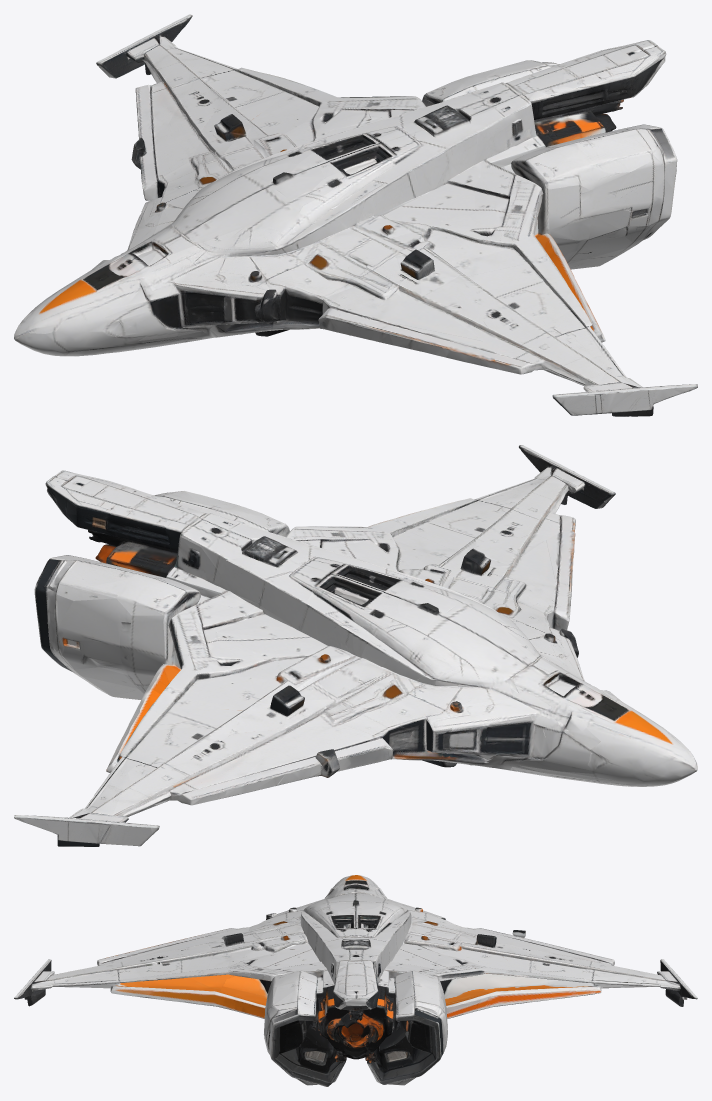
The model's file is phase_interceptor_destroyed.glb.
The picture shows the model from 3 angles, top to bottom: view 1: azimuth 30°, elevation 25°; view 2: azimuth 150°, elevation 25°; view 3: azimuth 270°, elevation 25°; orthographic projection. The views are drawn at different scales.
Bounding box in the file's own units: 1.39 × 0.3577 × 1.9.
Materials: 1 (1 with a texture image).
